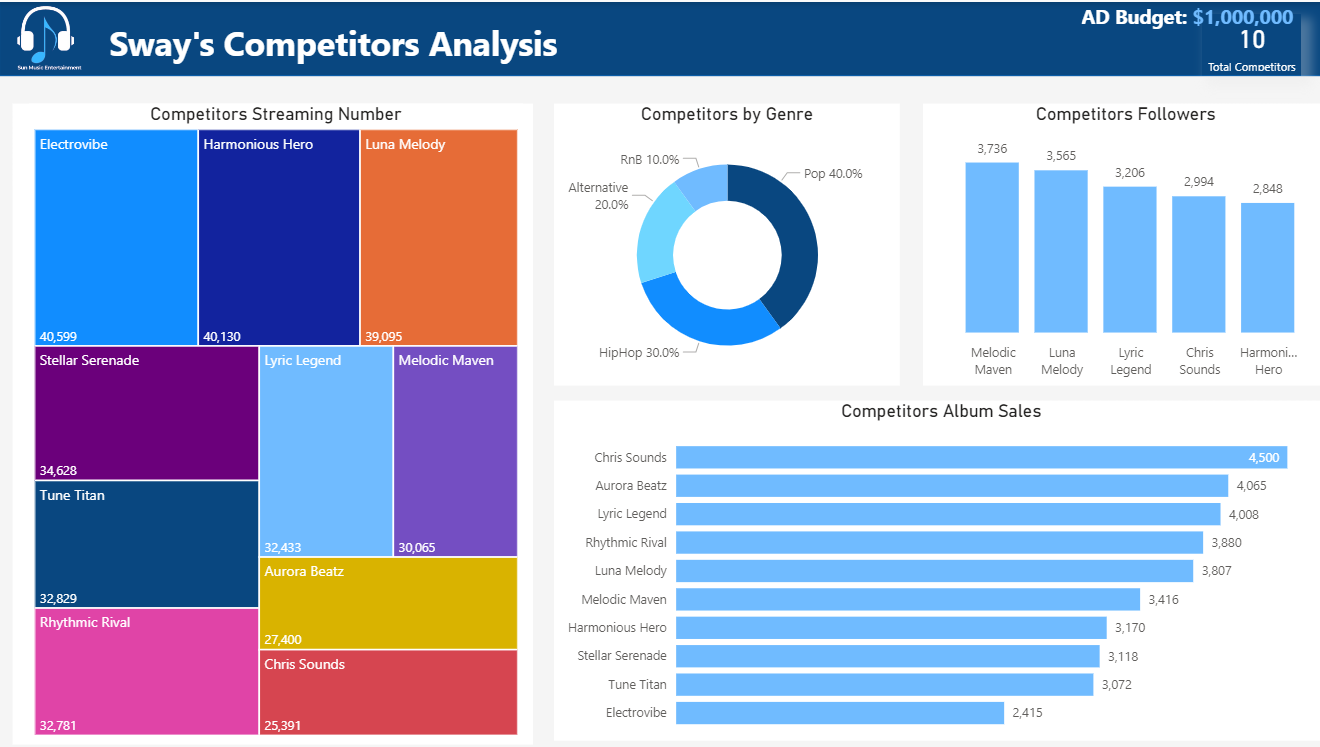

What the dashboard file says about the page in this screenshot:
{"tool":"powerbi","page":{"name":"Competitors Analysis","canvas":[1280,720],"ordinal":2},"visuals":[{"type":"shape","box":[0,0,1280.5,75.6],"z":0},{"type":"card","fields":{"Values":["Measures Table.Total Competitors"]},"box":[1145.5,16.2,94.6,59.4],"z":1000},{"type":"textbox","box":[1025.2,0,240.4,41.9],"z":2000},{"type":"shape","box":[13.5,101.3,495.7,610.6],"z":3000},{"type":"treemap","title":"Competitors Streaming Number","fields":{"Group":["competitors_analysis_dataset.Competitor_Name"],"Values":["Measures Table.Comp Streaming No"]},"box":[28.4,101.3,470.1,606.5],"z":4000},{"type":"columnChart","title":"Competitors Followers ","fields":{"Category":["competitors_analysis_dataset.Competitor_Name"],"Y":["Measures Table.Comp Followers/Listeners"]},"box":[879.4,101.3,386.3,268.8],"z":5000},{"type":"barChart","title":"Competitors Album Sales ","fields":{"Category":["competitors_analysis_dataset.Competitor_Name"],"Y":["Measures Table.Comp Album Sales"]},"box":[528.2,383.6,737.5,324.2],"z":6000},{"type":"donutChart","title":"Competitors by Genre","fields":{"Category":["competitors_analysis_dataset.Genre"],"Y":["Measures Table.Total Competitors"]},"box":[528.2,101.3,329.6,268.8],"z":7000},{"type":"textbox","box":[100,16.2,464.7,59.4],"z":8000},{"type":"image","box":[0,0,93.2,75.6],"z":9000}]}

Visuals, with their boxes in screenshot pixels (x1, y1, x2, y2), scaled from the page's 1280x720 canvas onto the 1320x747 screenshot:
shape: crop(0, 0, 1319, 78)
card - Measures Table.Total Competitors: crop(1181, 17, 1279, 78)
textbox: crop(1057, 0, 1305, 43)
shape: crop(14, 105, 525, 739)
"Competitors Streaming Number" treemap: crop(29, 105, 514, 734)
"Competitors Followers " columnChart: crop(907, 105, 1305, 384)
"Competitors Album Sales " barChart: crop(545, 398, 1305, 734)
"Competitors by Genre" donutChart: crop(545, 105, 885, 384)
textbox: crop(103, 17, 582, 78)
image: crop(0, 0, 96, 78)
